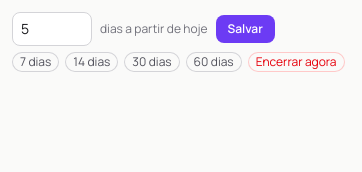
Test case: TrialSetter › erro do backend aparece e não mostra 'Salvo'
Click the button "Salvar": (245, 29) [216, 15, 275, 43]
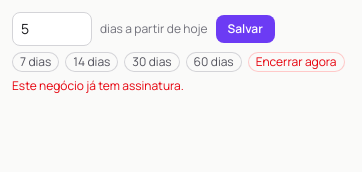
Expected: the message shows "já tem assinatura", [12, 77, 184, 94]
